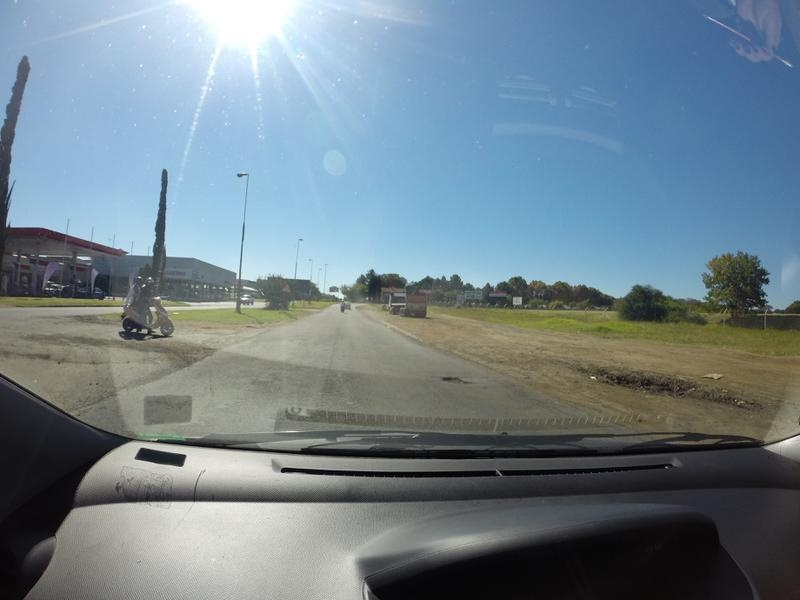pothole: (429, 377, 473, 385)
